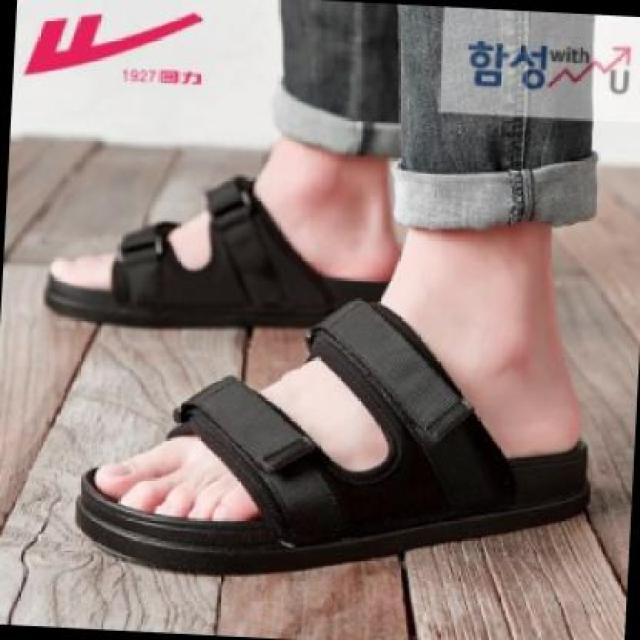Sandals: (67, 268, 618, 570)
